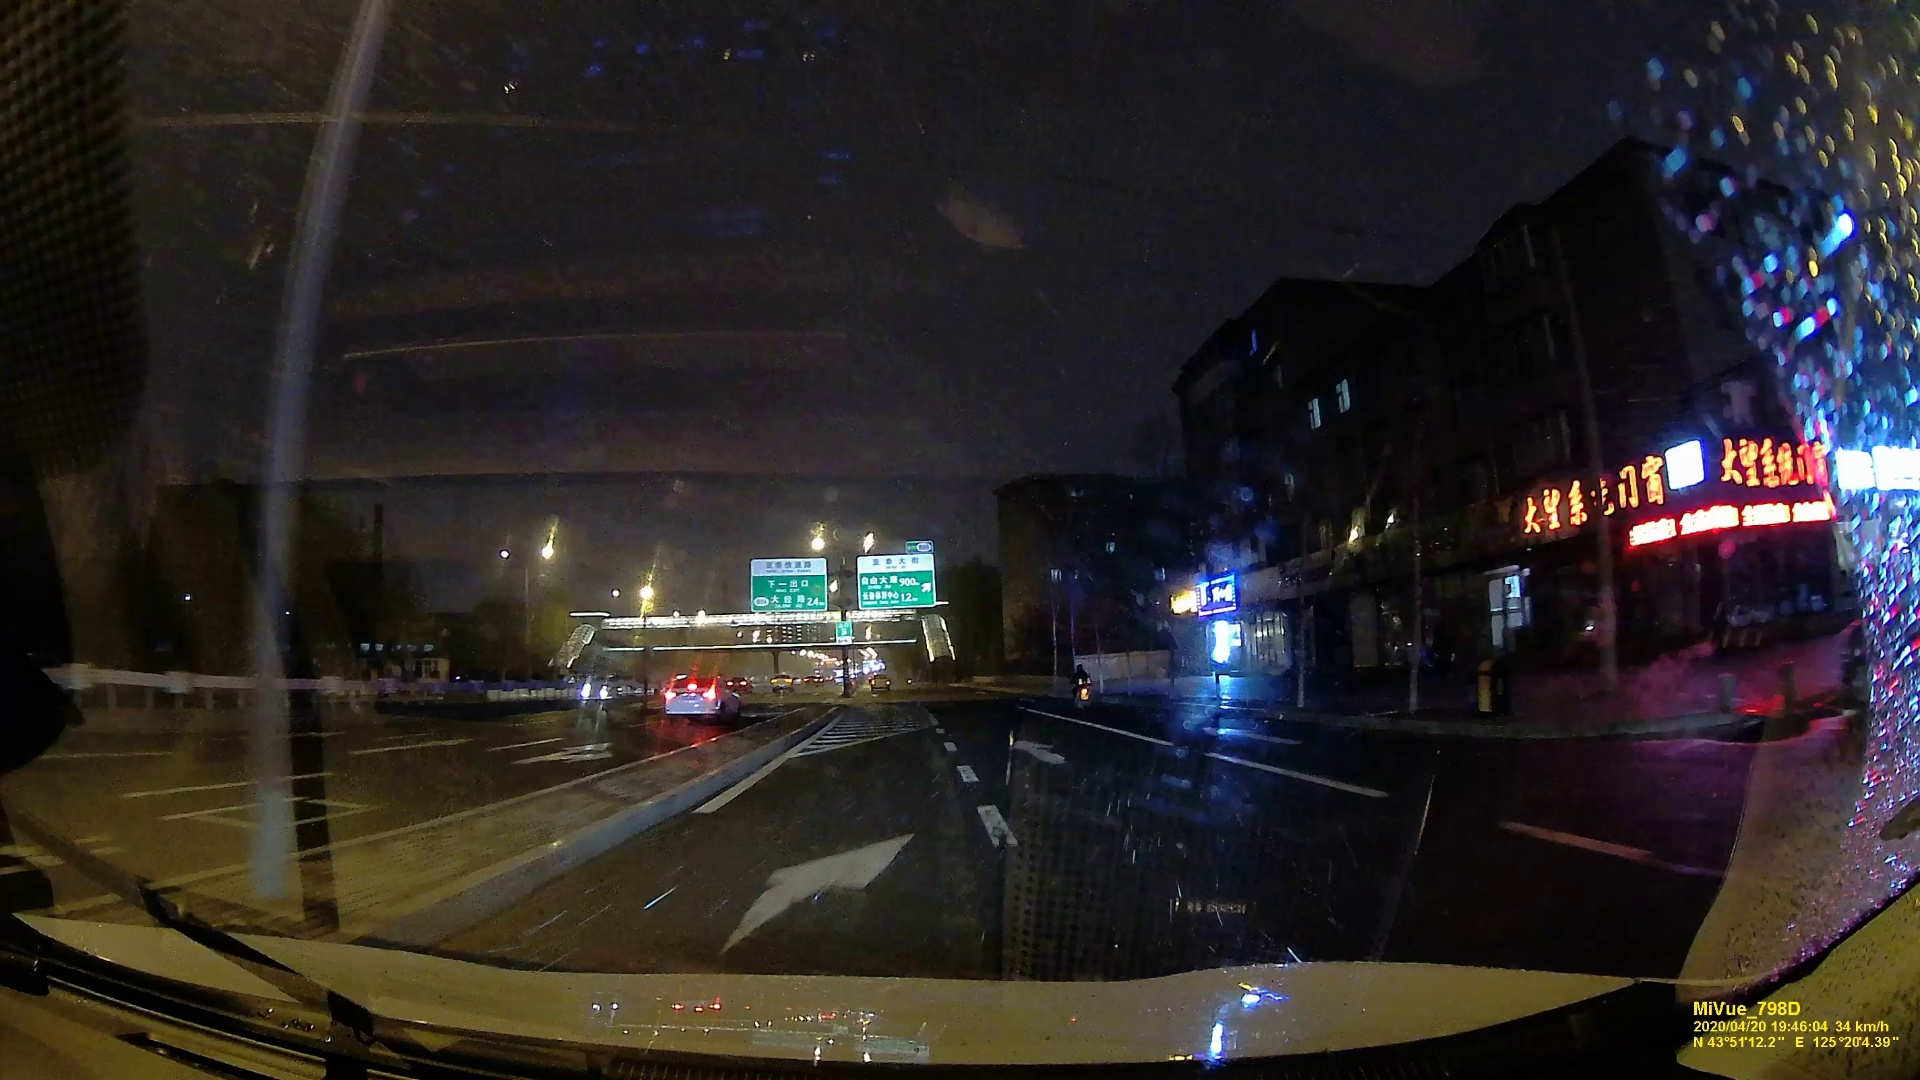person: (1069, 662, 1093, 690)
traffic_sign: (857, 555, 935, 609), (752, 557, 824, 612)
vehicle: (660, 673, 740, 723), (578, 677, 617, 701), (769, 674, 794, 693), (870, 672, 892, 693)
